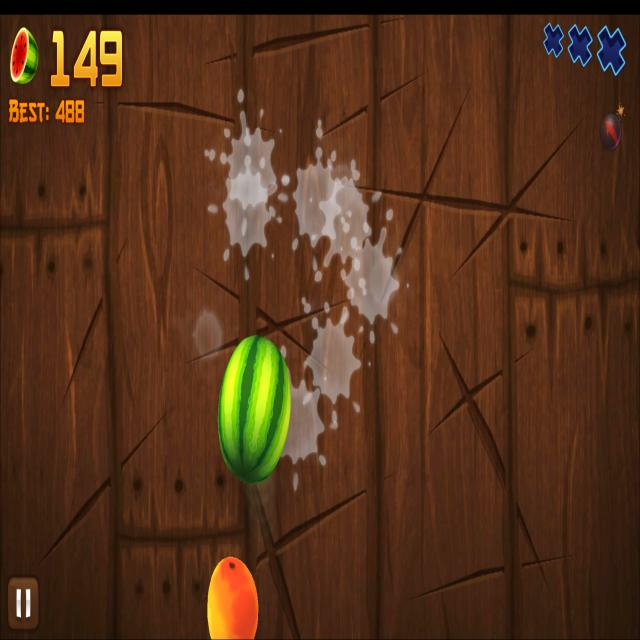fruit: (217, 336, 291, 486), (207, 554, 258, 640)
